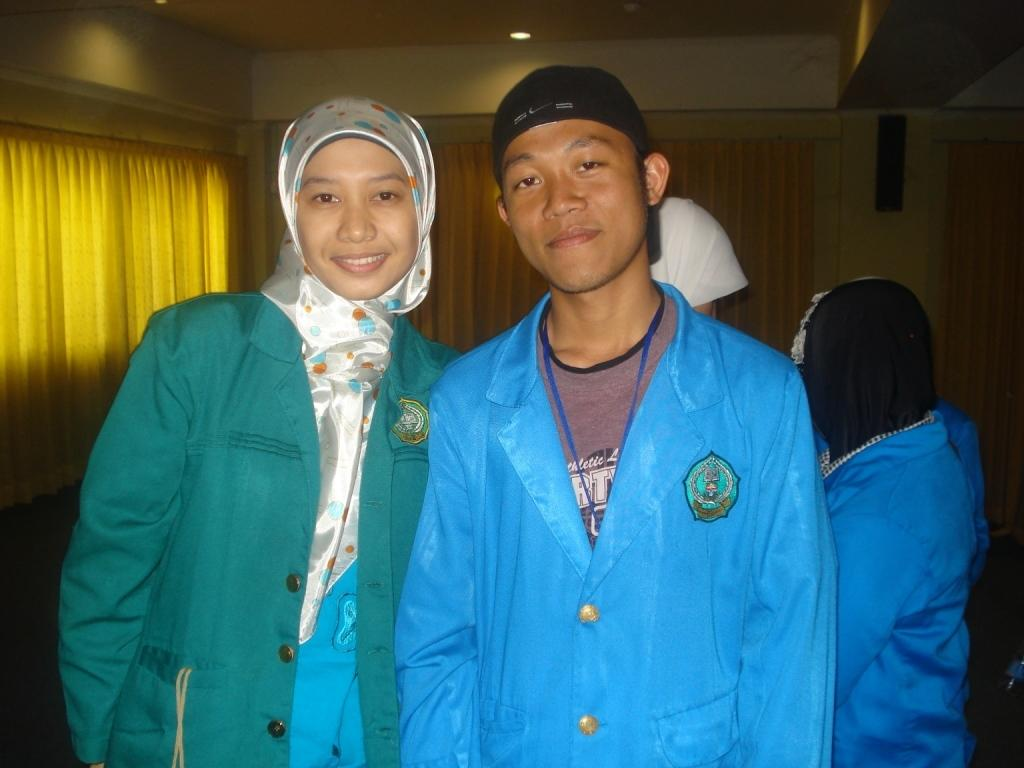no_helmet: (782, 290, 951, 350), (268, 166, 437, 226), (488, 140, 656, 200)
none: (477, 336, 752, 660), (734, 360, 1008, 684), (148, 330, 422, 654)
